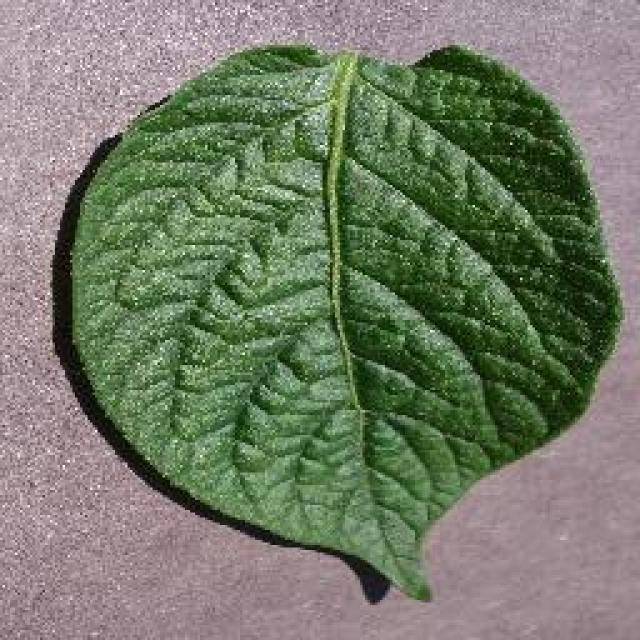Potato___healthy: (68, 44, 624, 605)
